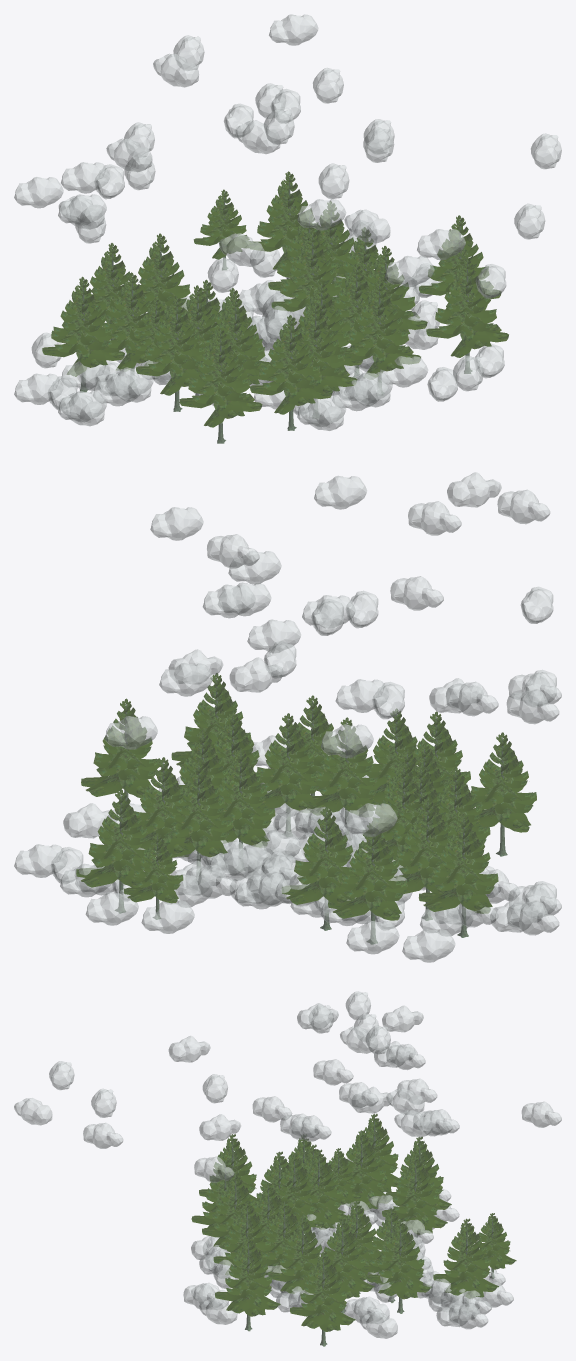
The model's file is pines.gltf.
3 renders of one model, top to bottom at view 1: azimuth 30°, elevation 25°; view 2: azimuth 150°, elevation 25°; view 3: azimuth 270°, elevation 25°, orthographic. The views are drawn at different scales.
Parts seen in each view (by area): view 1: pine2a Variant (43), pine2a Variant (25), pine2a Variant (40), pine2a Variant (39), pine2a Variant (41), pine2a Variant (18), pine2a Variant (38), pine2a Variant (30), pine2a Variant (32), pine2a Variant (22), pine2a Variant (36), pine2a Variant (31) (+65 smaller); view 2: pine2a Variant (40), pine2a Variant (33), pine2a Variant (30), pine2a Variant (35), pine2a Variant (43), pine2a Variant (22), pine2a Variant (31), pine2a Variant (37), pine2a Variant (19), pine2a Variant (38), pine2a Variant (32), pine2a Variant (27) (+69 smaller); view 3: pine2a Variant (30), pine2a Variant (27), pine2a Variant (25), pine2a Variant (22), pine2a Variant (31), pine2a Variant (28), pine2a Variant (32), pine2a Variant (21), pine2a Variant (44), pine2a Variant (39), pine2a Variant (36), pine2a Variant (42) (+53 smaller).
Part boxes in pixels (x1=…): pine2a Variant (43): x1=179, y1=328, x2=262, y2=443; pine2a Variant (25): x1=426, y1=258, x2=508, y2=373; pine2a Variant (40): x1=42, y1=276, x2=124, y2=392; pine2a Variant (39): x1=342, y1=280, x2=420, y2=395; pine2a Variant (41): x1=250, y1=315, x2=332, y2=430; pine2a Variant (18): x1=136, y1=296, x2=205, y2=411; pine2a Variant (38): x1=271, y1=231, x2=341, y2=329; pine2a Variant (30): x1=419, y1=215, x2=501, y2=309; pine2a Variant (32): x1=101, y1=272, x2=150, y2=375; pine2a Variant (22): x1=250, y1=171, x2=318, y2=278; pine2a Variant (36): x1=297, y1=303, x2=357, y2=417; pine2a Variant (31): x1=133, y1=233, x2=190, y2=319; pine2a Variant (40): x1=418, y1=813, x2=498, y2=937; pine2a Variant (33): x1=328, y1=820, x2=407, y2=944; pine2a Variant (30): x1=81, y1=698, x2=159, y2=800; pine2a Variant (35): x1=306, y1=717, x2=380, y2=840; pine2a Variant (43): x1=470, y1=732, x2=536, y2=856; pine2a Variant (22): x1=76, y1=789, x2=155, y2=913; pine2a Variant (31): x1=282, y1=806, x2=355, y2=930; pine2a Variant (37): x1=256, y1=713, x2=318, y2=836; pine2a Variant (19): x1=169, y1=760, x2=233, y2=874; pine2a Variant (38): x1=213, y1=748, x2=275, y2=849; pine2a Variant (32): x1=389, y1=796, x2=453, y2=920; pine2a Variant (27): x1=134, y1=757, x2=192, y2=856; pine2a Variant (30): x1=290, y1=1251, x2=355, y2=1346; pine2a Variant (27): x1=367, y1=1219, x2=432, y2=1313; pine2a Variant (25): x1=215, y1=1236, x2=280, y2=1331; pine2a Variant (22): x1=433, y1=1218, x2=498, y2=1302; pine2a Variant (31): x1=382, y1=1155, x2=447, y2=1246; pine2a Variant (28): x1=269, y1=1217, x2=322, y2=1306; pine2a Variant (32): x1=342, y1=1130, x2=391, y2=1209; pine2a Variant (21): x1=323, y1=1218, x2=374, y2=1313; pine2a Variant (44): x1=304, y1=1149, x2=348, y2=1243; pine2a Variant (39): x1=213, y1=1201, x2=270, y2=1275; pine2a Variant (36): x1=202, y1=1172, x2=259, y2=1249; pine2a Variant (42): x1=274, y1=1154, x2=324, y2=1231.
Bounding box in the file's own units: 536 × 362 × 676.
